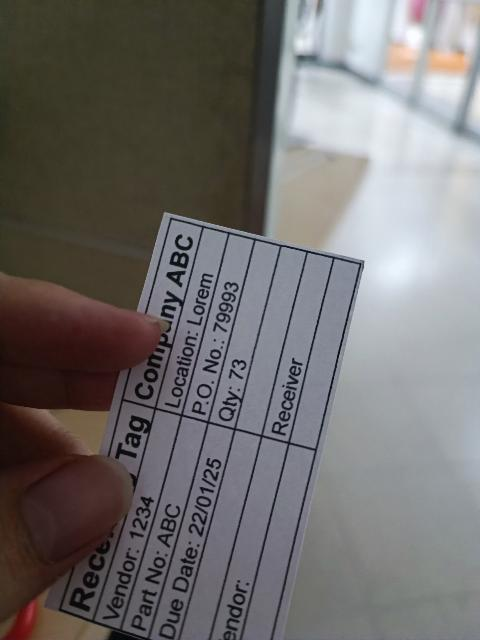PO no: (181, 234, 254, 421)
part no: (120, 414, 210, 640)
qty: (209, 242, 283, 432)
tags: (54, 213, 365, 640)
